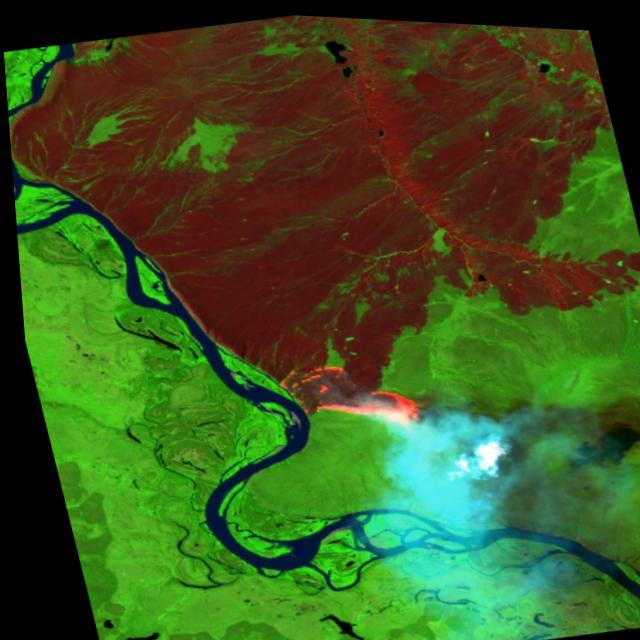fire: (247, 332, 433, 457)
